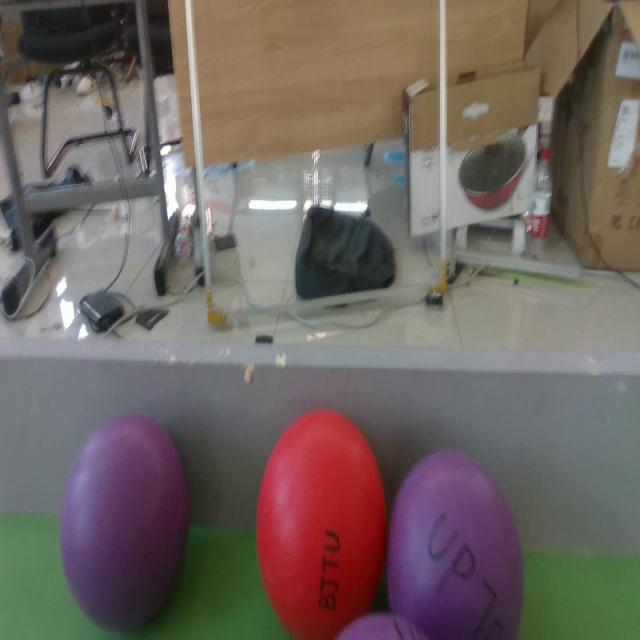invalid: (62, 412, 188, 628), (391, 447, 523, 640)
red: (256, 408, 389, 640)
